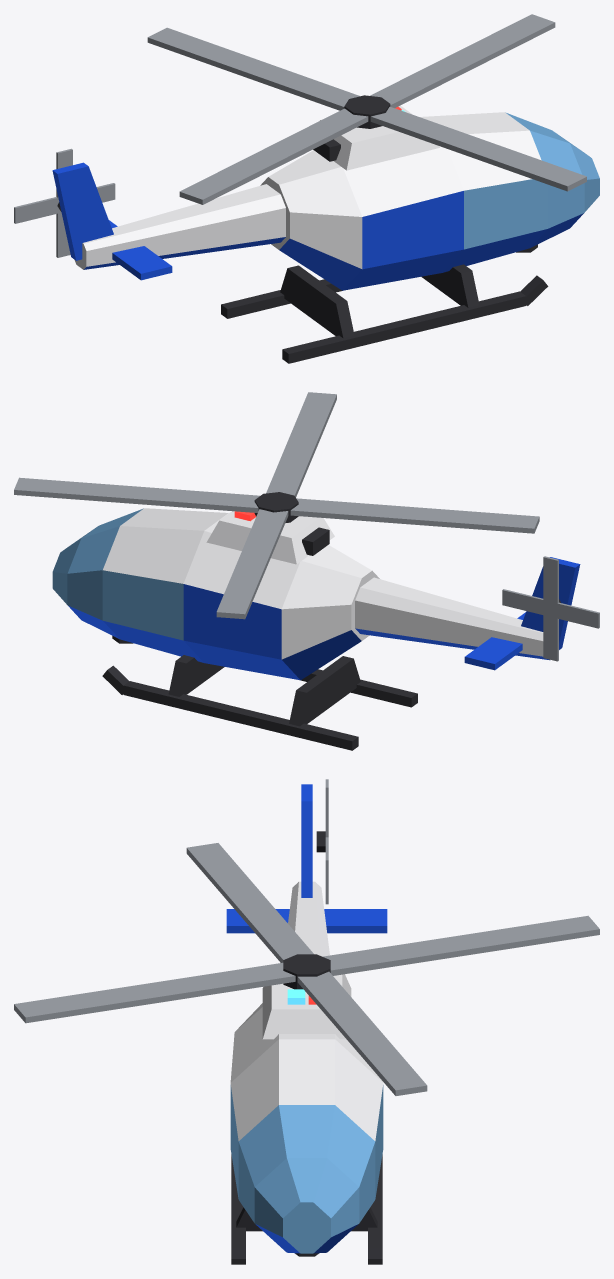
The model's file is heli_police.glb.
3 renders of one model, top to bottom at view 1: azimuth 30°, elevation 25°; view 2: azimuth 150°, elevation 25°; view 3: azimuth 270°, elevation 25°, orthographic. The views are drawn at different scales.
Visible parts, largest first — view 1: Body, Rotor, TailRotor; view 2: Body, Rotor, TailRotor; view 3: Body, Rotor, TailRotor.
Boxes of the visible parts, x1,y1,x2,y2 form: Body: [52, 105, 599, 363]; Rotor: [147, 14, 586, 204]; TailRotor: [14, 148, 115, 257]; Body: [52, 508, 580, 750]; Rotor: [14, 392, 539, 619]; TailRotor: [502, 556, 599, 661]; Body: [226, 784, 387, 1264]; Rotor: [14, 843, 599, 1095]; TailRotor: [316, 779, 328, 904].
Bounding box in the file's own units: 0.9143 × 0.3462 × 0.7285.
